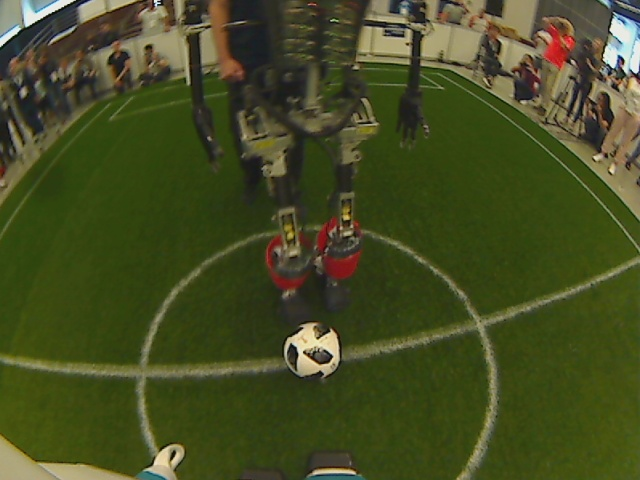ball: (282, 320, 344, 383)
